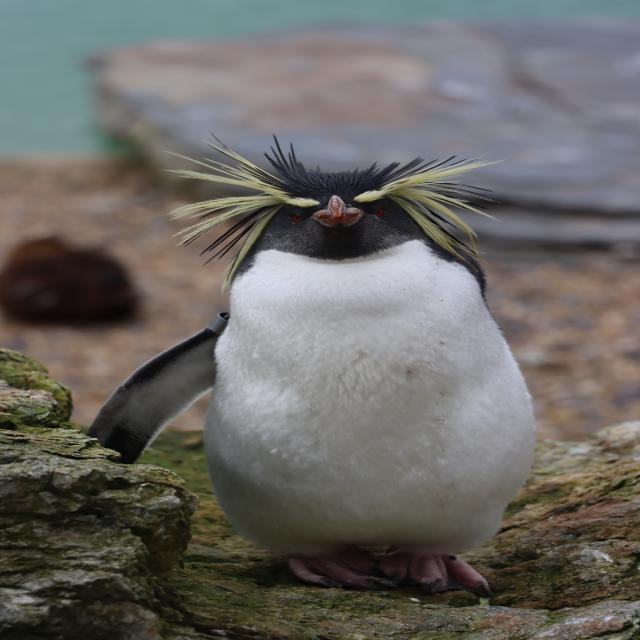Penguins: (187, 152, 549, 594)
